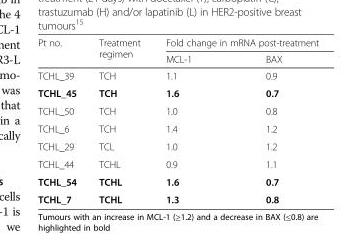table: (37, 36, 318, 204)
table column: (228, 36, 318, 204), (152, 36, 228, 204), (87, 36, 152, 204), (37, 36, 87, 204)
table column header: (37, 36, 318, 66)
table row: (37, 66, 318, 84), (37, 101, 318, 119), (37, 119, 318, 137), (37, 154, 318, 172), (37, 172, 318, 190), (37, 84, 318, 101), (37, 137, 318, 154), (37, 50, 318, 66), (37, 36, 318, 50), (37, 190, 318, 204)
table spanning cell: (152, 36, 318, 50), (87, 36, 152, 66), (37, 36, 87, 66)
